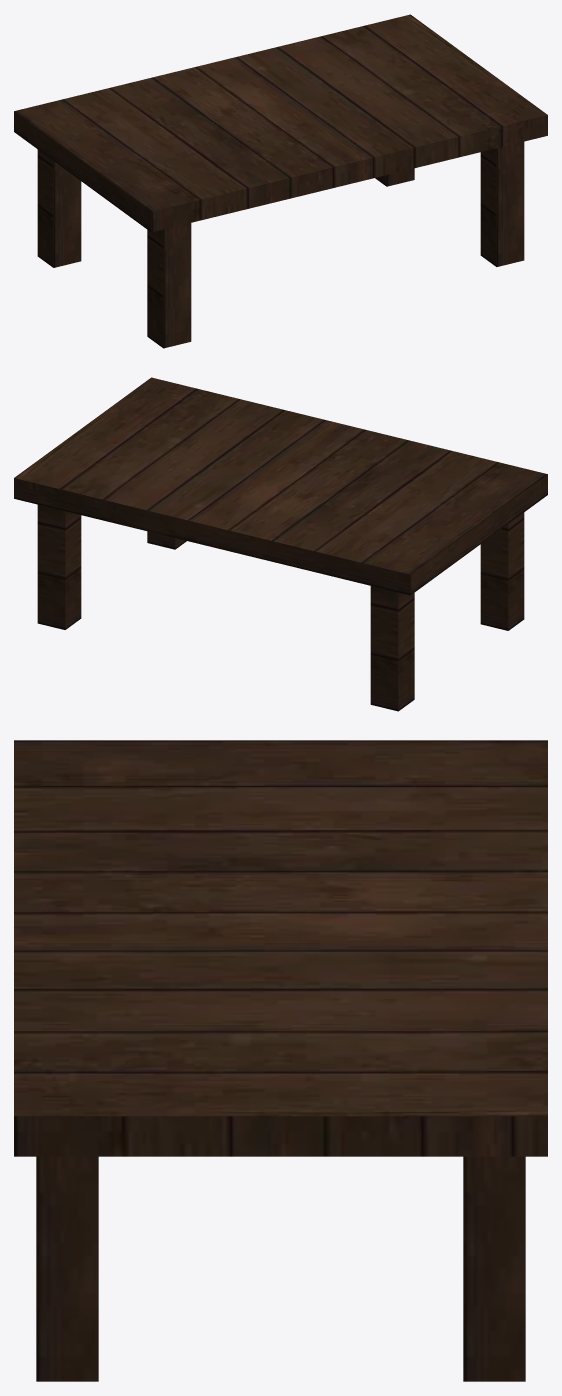
The model's file is low_table_01.glb.
The picture shows the model from 3 angles, top to bottom: view 1: azimuth 30°, elevation 25°; view 2: azimuth 150°, elevation 25°; view 3: azimuth 270°, elevation 25°; orthographic projection. The views are drawn at different scales.
Visible parts, largest first — view 1: low_table_01; view 2: low_table_01; view 3: low_table_01.
Part boxes in pixels (x1,y1,x2,y2): low_table_01: (14,14,547,348); low_table_01: (14,377,547,711); low_table_01: (14,740,547,1381).
Size of the model in its own units: 1 by 0.35 by 0.6001.
Materials: 1 (1 with a texture image).
